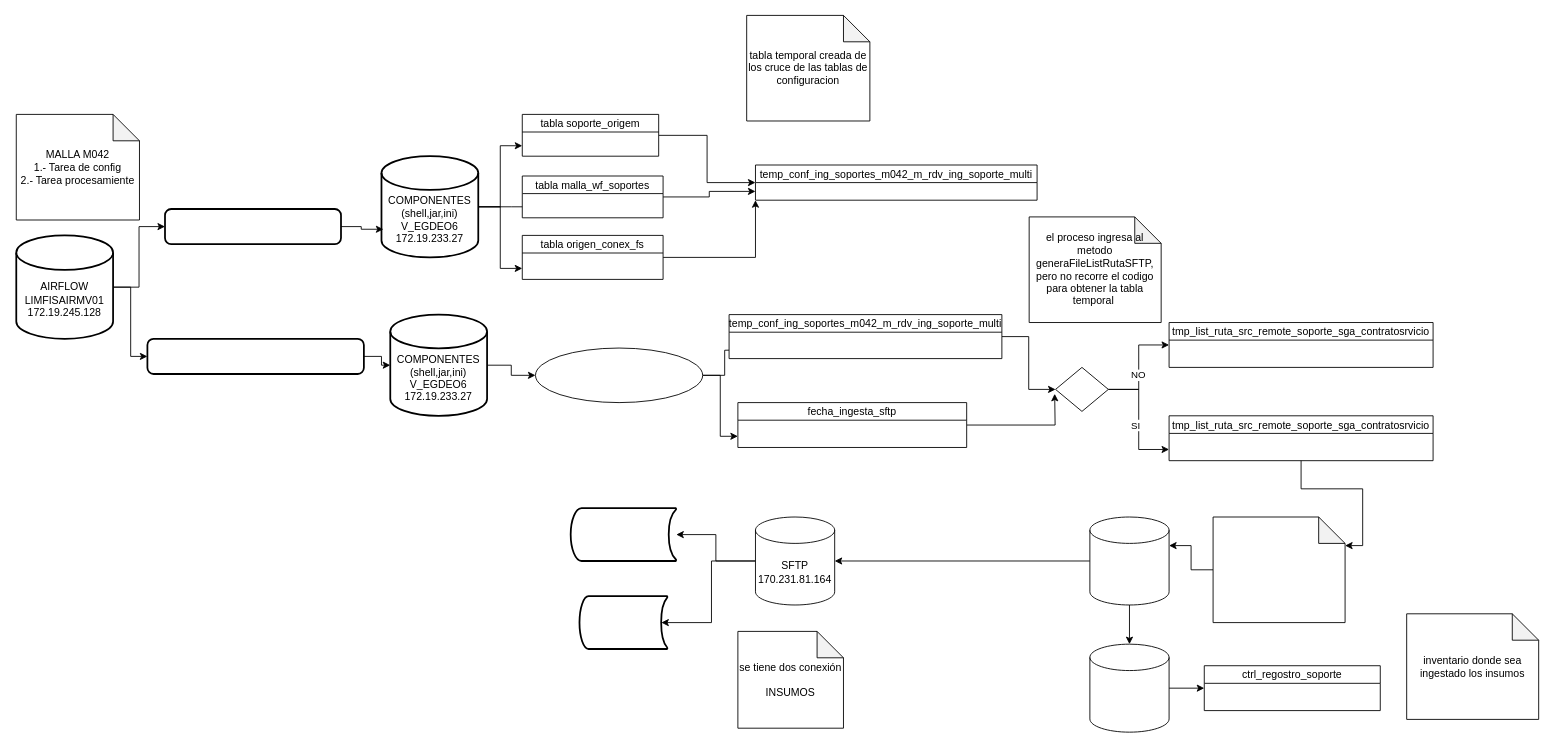
The diagram is 1554 pixels wide and 748 high, and some of its shapes have lost their labels. Here are the shapes that lost their labels. From the top down, the centre of each, then its label:
At point (252, 226): "generar_config_malla_taask".
At point (255, 355): "ingesta_soporte_sga_contratoservicio_task".
At point (619, 375): "JAR cmp-common-rdv-ingesta-soportes-scala".
At point (623, 534): "CLAROBK1 DATA 2019 A 2022".
At point (1129, 560): "NIFI_28".
At point (1278, 569): "de crearse la tabla temporal se debe realizar configuracion al NIFI".
At point (623, 622): "CLARO DATA 2023".
At point (1129, 687): "HDFS 210".
